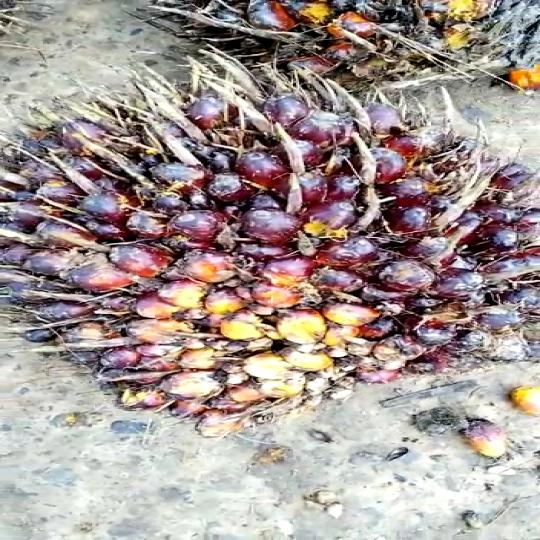masak: (0, 73, 540, 428)
